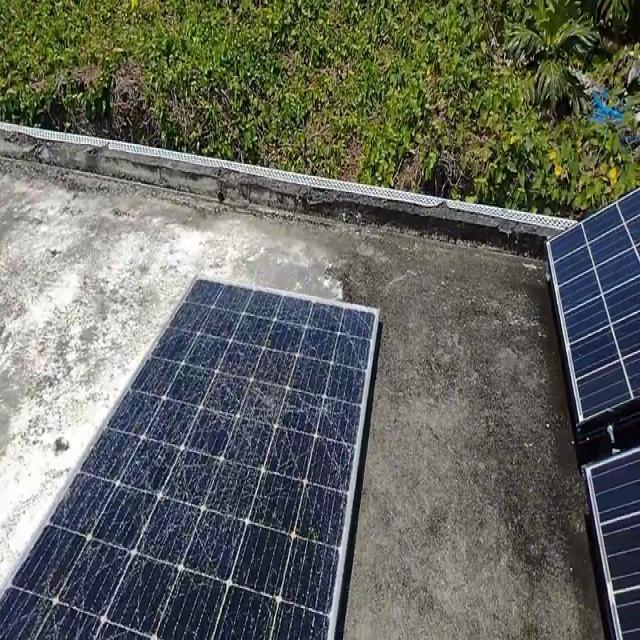Normal Solar Panel: (550, 190, 640, 425), (589, 449, 640, 640)
